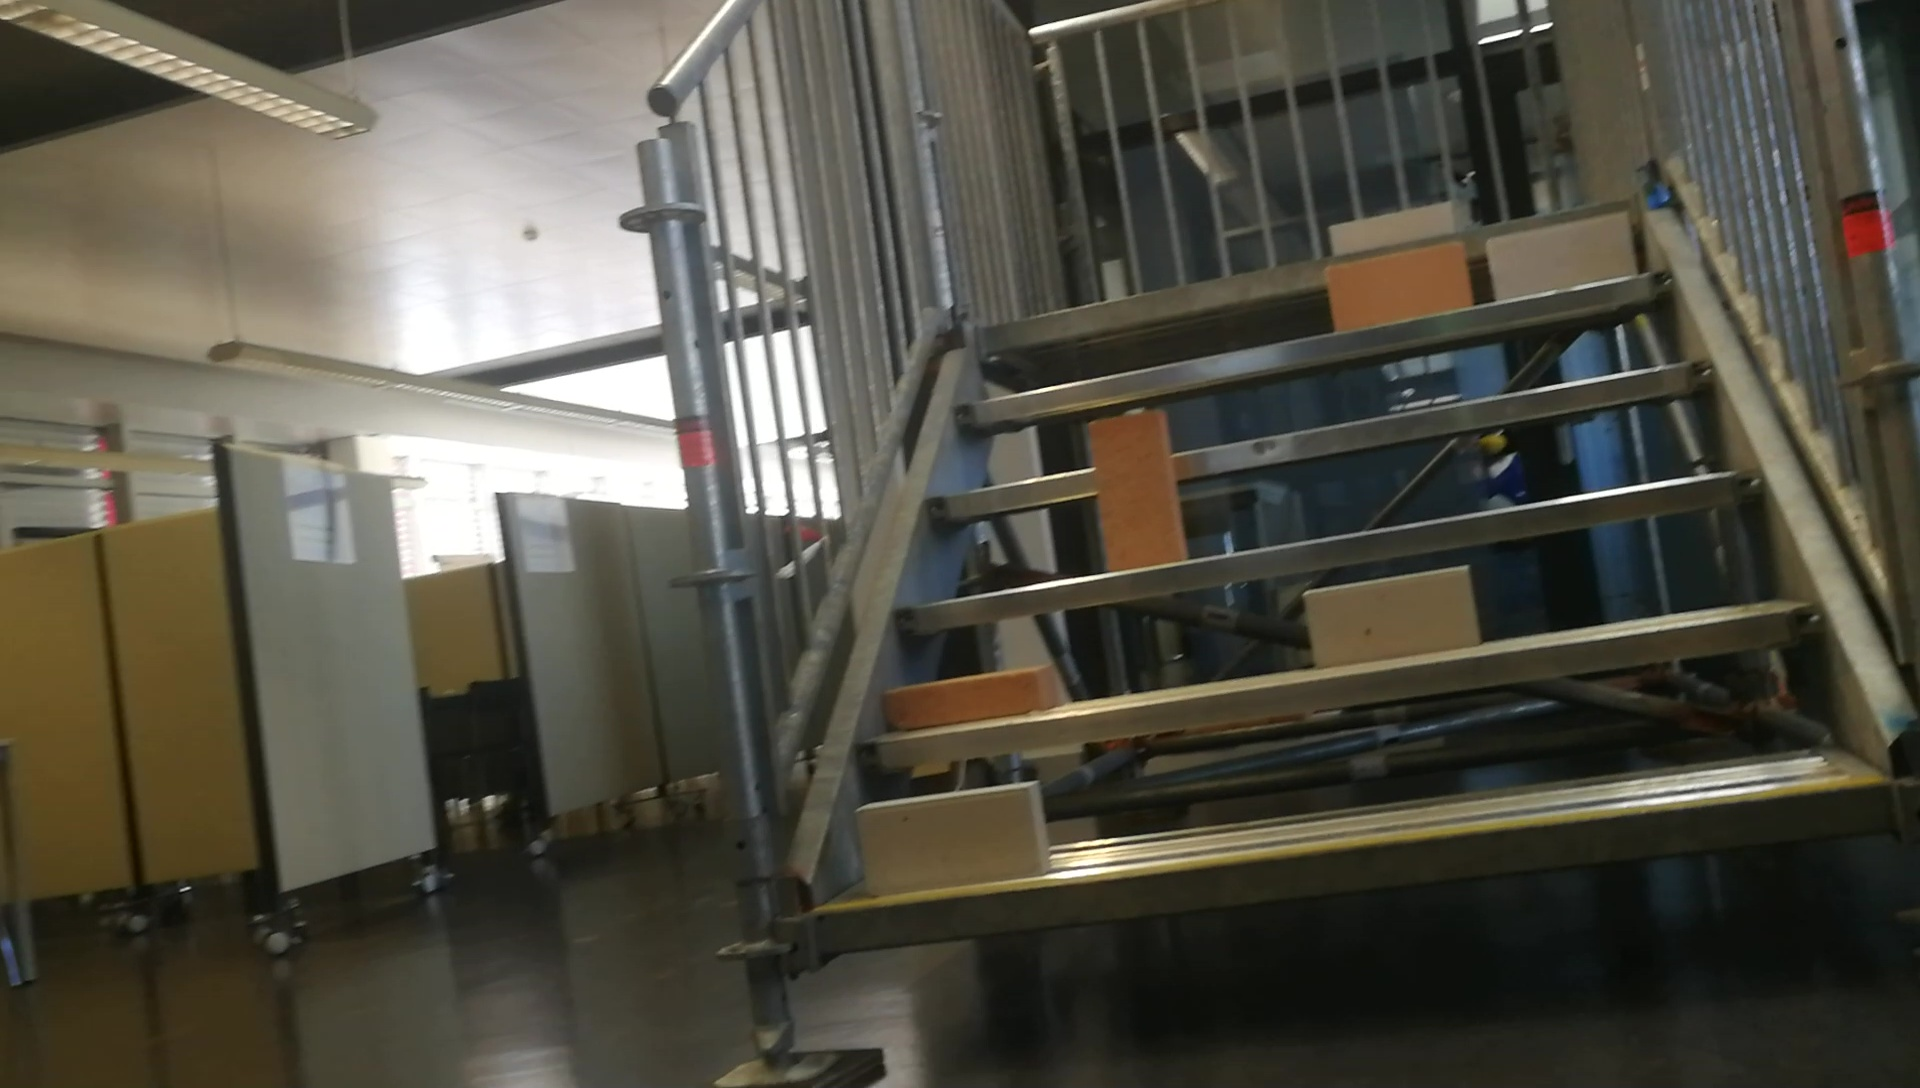brick: (856, 781, 1044, 890), (1308, 566, 1474, 663), (1092, 410, 1188, 568), (1487, 214, 1633, 299), (1327, 243, 1470, 327), (882, 666, 1052, 729), (1328, 203, 1452, 248)
edge: (815, 781, 1884, 950), (852, 607, 1818, 770), (901, 471, 1760, 633), (930, 360, 1713, 528), (957, 274, 1672, 427)
stairs: (618, 3, 1920, 1088)
steps: (782, 182, 1913, 965)
